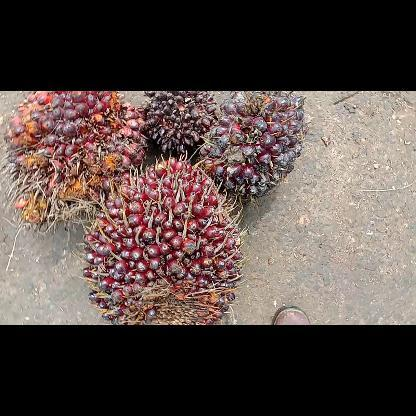Kurang masak: (78, 155, 246, 324), (197, 91, 305, 204)
TBS abnormal: (145, 91, 217, 157)
TBS masak: (4, 90, 148, 228)
